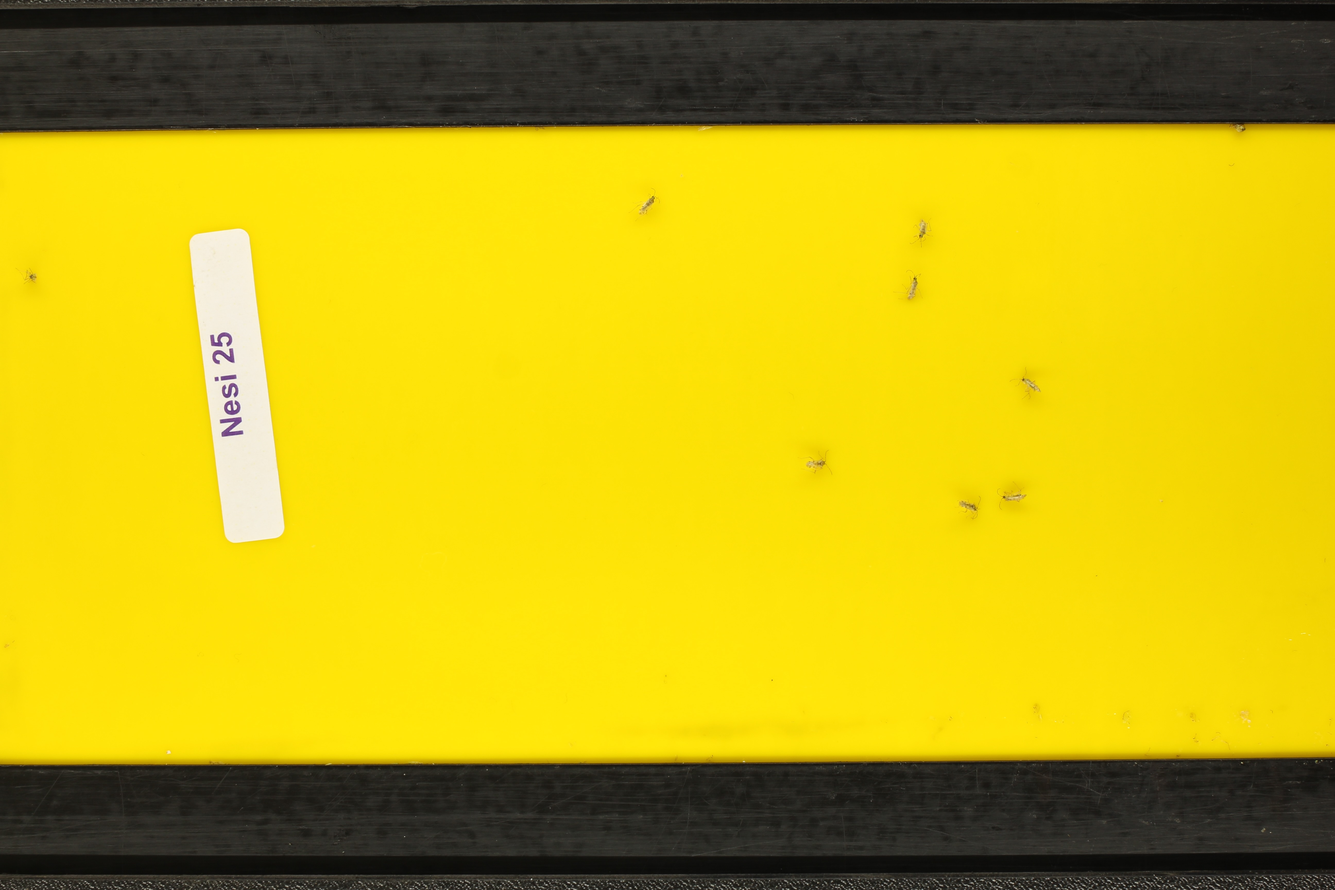NC: (627, 184, 665, 223), (1007, 365, 1046, 402), (796, 450, 835, 477), (896, 267, 925, 303), (907, 215, 936, 250), (995, 482, 1030, 508), (14, 264, 47, 290), (952, 494, 985, 518)
